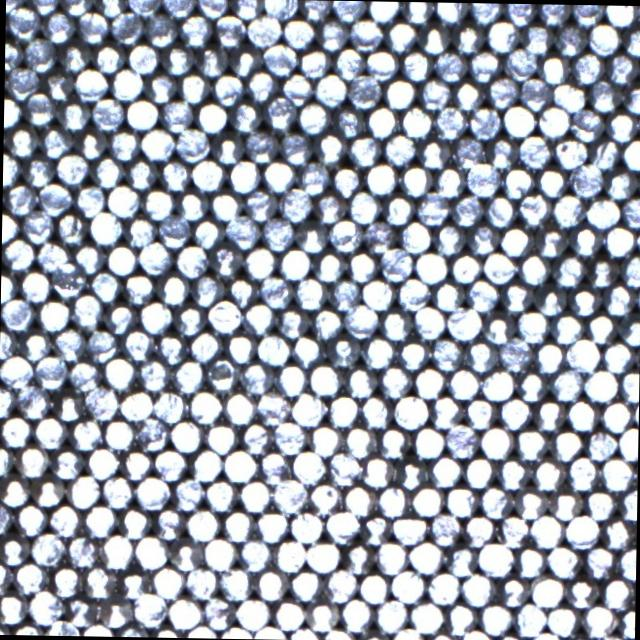tool: (528, 572, 564, 608), (326, 450, 361, 486), (200, 594, 235, 630), (15, 382, 50, 418), (342, 303, 377, 338), (175, 126, 210, 161), (379, 246, 414, 281), (99, 532, 133, 568), (202, 420, 238, 454), (290, 448, 324, 484), (500, 102, 536, 136), (288, 509, 324, 543), (220, 506, 254, 542), (534, 222, 568, 258), (446, 306, 482, 340), (272, 418, 306, 454), (517, 132, 551, 168), (464, 162, 500, 196), (204, 356, 238, 391), (382, 130, 417, 164), (66, 472, 100, 507), (101, 416, 135, 451), (382, 75, 417, 109), (108, 65, 142, 100), (100, 473, 134, 508), (235, 596, 270, 630), (261, 156, 295, 191), (478, 483, 512, 518), (479, 423, 513, 458), (14, 442, 48, 477), (383, 18, 418, 52), (428, 509, 462, 544), (582, 426, 616, 461), (531, 456, 565, 491), (443, 483, 478, 517), (272, 596, 306, 631), (378, 363, 412, 398), (342, 423, 377, 457), (376, 423, 410, 458), (428, 452, 462, 487), (395, 276, 430, 310), (22, 92, 56, 127), (378, 306, 412, 341), (290, 391, 324, 426), (326, 333, 360, 368), (296, 159, 331, 193), (244, 128, 278, 163), (363, 160, 398, 194), (564, 512, 599, 546), (190, 156, 224, 191), (373, 597, 408, 631), (426, 569, 460, 604), (185, 506, 219, 541), (443, 600, 478, 634), (498, 336, 532, 371), (390, 568, 425, 602), (546, 544, 581, 578), (358, 393, 392, 428), (133, 534, 168, 568), (443, 542, 478, 576), (136, 356, 170, 391), (66, 358, 101, 392), (33, 354, 67, 389), (450, 135, 485, 169), (308, 479, 342, 514), (568, 162, 602, 197), (308, 422, 342, 457), (48, 562, 83, 596), (408, 599, 443, 633), (410, 423, 444, 458), (84, 384, 118, 419), (416, 134, 451, 168), (84, 326, 118, 361), (207, 298, 240, 334), (478, 540, 512, 574), (374, 539, 408, 573), (102, 354, 136, 388), (18, 267, 52, 301), (152, 446, 186, 480), (48, 502, 82, 536), (272, 538, 306, 572), (238, 478, 272, 512), (482, 249, 516, 283), (242, 244, 276, 278), (496, 456, 530, 490), (552, 253, 586, 287), (325, 507, 359, 541), (347, 74, 381, 108), (305, 538, 339, 572), (188, 448, 222, 482), (332, 44, 366, 78), (171, 358, 205, 392), (345, 247, 379, 281), (293, 275, 327, 309), (339, 597, 373, 631), (348, 132, 382, 166), (74, 66, 108, 100), (13, 502, 47, 536), (478, 600, 512, 634), (134, 475, 168, 509), (156, 272, 190, 306), (586, 20, 620, 54), (430, 335, 464, 369), (138, 299, 172, 333), (429, 394, 463, 428), (565, 576, 599, 610), (6, 65, 40, 99), (222, 329, 256, 363), (600, 456, 634, 490), (170, 476, 204, 510), (227, 158, 261, 192), (398, 218, 432, 252), (274, 361, 308, 395), (70, 294, 104, 328), (50, 264, 84, 298), (278, 246, 312, 280), (584, 367, 618, 401), (254, 508, 288, 542), (532, 397, 566, 431), (307, 362, 341, 396), (554, 135, 588, 169), (602, 222, 636, 256), (604, 50, 638, 84), (68, 416, 102, 450), (120, 328, 154, 362), (348, 16, 382, 50), (600, 339, 634, 373), (280, 130, 314, 164), (498, 222, 532, 256), (398, 104, 432, 138), (272, 478, 306, 512), (117, 505, 151, 539), (208, 242, 242, 276), (57, 38, 91, 72), (548, 486, 582, 520), (532, 339, 566, 373), (601, 515, 635, 549), (342, 482, 376, 516), (486, 17, 520, 51), (238, 419, 272, 453), (552, 22, 586, 56), (502, 45, 536, 79), (16, 327, 50, 361), (262, 40, 296, 74), (222, 448, 256, 482), (360, 276, 394, 310), (536, 104, 570, 138), (12, 559, 46, 593), (36, 297, 70, 331), (56, 97, 90, 131), (393, 394, 427, 428), (168, 417, 202, 451), (143, 11, 177, 45), (244, 66, 278, 100), (587, 136, 621, 170), (50, 445, 84, 479), (512, 600, 546, 634), (462, 454, 496, 488), (496, 512, 530, 546), (238, 536, 272, 570), (445, 422, 479, 456), (30, 531, 64, 565), (66, 533, 100, 567), (5, 123, 39, 157), (23, 36, 57, 70), (152, 505, 186, 539), (126, 40, 160, 74), (396, 335, 430, 369), (408, 540, 442, 574), (550, 367, 584, 401), (2, 236, 36, 270), (124, 156, 158, 190), (585, 194, 619, 228), (109, 10, 143, 44), (99, 594, 133, 628), (104, 300, 138, 334), (178, 12, 212, 46), (188, 328, 222, 362), (260, 216, 294, 250), (466, 104, 500, 138), (498, 395, 532, 429), (380, 190, 414, 224), (360, 334, 394, 368), (568, 222, 602, 256), (5, 6, 39, 40), (460, 572, 494, 606), (256, 448, 290, 482), (582, 602, 616, 636), (82, 502, 116, 536), (462, 512, 496, 546), (305, 598, 339, 632), (278, 187, 312, 221), (244, 188, 278, 222), (566, 337, 600, 371), (288, 566, 322, 600), (255, 388, 289, 422), (149, 564, 183, 598), (582, 544, 616, 578), (600, 398, 634, 432), (140, 126, 174, 160), (514, 426, 548, 460), (346, 188, 380, 222), (82, 564, 116, 598), (138, 240, 172, 274), (224, 213, 258, 247), (238, 360, 272, 394), (184, 564, 218, 598), (289, 332, 323, 366), (262, 96, 296, 130), (51, 388, 85, 422), (254, 566, 288, 600), (132, 592, 166, 626), (516, 190, 550, 224), (569, 106, 603, 140), (496, 573, 530, 607), (222, 390, 256, 424), (218, 566, 252, 600), (414, 249, 448, 283), (28, 590, 62, 624), (551, 192, 585, 226), (513, 486, 547, 520), (512, 543, 546, 577), (20, 208, 54, 242), (464, 338, 498, 372), (363, 219, 397, 253), (518, 74, 552, 108), (134, 416, 168, 450), (204, 477, 237, 512), (296, 45, 331, 78), (326, 392, 359, 427), (499, 280, 534, 313), (391, 511, 426, 544), (500, 165, 535, 198), (365, 103, 398, 138), (360, 453, 393, 488), (31, 415, 66, 448), (194, 99, 227, 133), (0, 352, 33, 386), (530, 512, 563, 546), (584, 311, 618, 344), (202, 535, 235, 569), (104, 240, 137, 274), (296, 100, 329, 134), (280, 70, 313, 104), (376, 483, 409, 517), (1, 296, 34, 330), (256, 331, 289, 365), (242, 300, 275, 334), (602, 282, 635, 316), (432, 220, 465, 254), (160, 42, 194, 75), (550, 311, 584, 344), (125, 96, 158, 130), (167, 594, 200, 628), (328, 277, 361, 311), (190, 272, 223, 306), (294, 220, 328, 253), (175, 242, 208, 276), (107, 126, 140, 160), (157, 213, 190, 247), (160, 98, 193, 132), (172, 302, 205, 336), (328, 217, 362, 250), (228, 100, 261, 134), (600, 575, 633, 609), (450, 78, 484, 111), (72, 240, 105, 274), (604, 108, 637, 142), (177, 70, 210, 104), (365, 46, 398, 80), (585, 255, 619, 288), (546, 602, 579, 636), (398, 162, 432, 195), (480, 367, 514, 400), (154, 330, 188, 363), (604, 166, 638, 199), (153, 388, 186, 422), (72, 182, 106, 215), (394, 456, 428, 489), (517, 250, 550, 284), (344, 364, 378, 397), (187, 389, 220, 423), (485, 134, 518, 168), (570, 50, 604, 83), (412, 365, 446, 398), (75, 8, 108, 42), (330, 105, 364, 138), (54, 210, 88, 243), (323, 568, 356, 602), (340, 540, 374, 573), (37, 240, 71, 273), (312, 190, 346, 223), (463, 395, 496, 429), (91, 38, 124, 72), (516, 368, 549, 402), (37, 181, 70, 215), (413, 304, 446, 338), (119, 388, 152, 422), (356, 570, 390, 603), (359, 510, 392, 544), (85, 445, 118, 478), (55, 150, 88, 183), (537, 50, 570, 83), (210, 72, 243, 105), (194, 43, 227, 76), (535, 164, 568, 197), (106, 182, 139, 215), (158, 157, 191, 190), (276, 305, 309, 338), (41, 68, 74, 101), (282, 14, 315, 47), (120, 447, 153, 480), (482, 311, 515, 344), (451, 21, 484, 54), (330, 163, 363, 196), (467, 48, 500, 81), (447, 366, 480, 399), (90, 154, 123, 187), (190, 215, 223, 248), (74, 126, 107, 159), (312, 249, 345, 282), (209, 187, 242, 220), (88, 210, 121, 243), (418, 21, 451, 54), (520, 21, 553, 54), (434, 104, 466, 138), (52, 326, 84, 360), (566, 456, 598, 490), (432, 278, 464, 312), (588, 78, 620, 112), (486, 74, 518, 108), (550, 426, 582, 460), (122, 270, 154, 304), (4, 182, 38, 214), (552, 80, 586, 112), (21, 154, 55, 186), (584, 486, 616, 520), (260, 273, 292, 307), (410, 483, 442, 517), (466, 278, 498, 312), (310, 305, 342, 339), (450, 192, 482, 226), (245, 12, 279, 44), (90, 96, 122, 130), (169, 538, 203, 570), (212, 130, 244, 164), (314, 129, 346, 163), (175, 188, 209, 220), (40, 124, 72, 158), (61, 596, 95, 628), (400, 47, 432, 80), (434, 48, 466, 81), (225, 274, 258, 306), (314, 72, 346, 105), (432, 165, 465, 197), (144, 70, 177, 102), (566, 397, 598, 430), (124, 213, 156, 246), (212, 14, 245, 46), (228, 44, 261, 76), (536, 284, 569, 316), (484, 192, 516, 225), (41, 10, 74, 42), (87, 268, 120, 300), (568, 284, 600, 317), (516, 309, 548, 342), (316, 16, 348, 49), (415, 192, 448, 224), (33, 476, 66, 508), (418, 77, 450, 110), (117, 568, 150, 600), (466, 222, 499, 254), (0, 473, 31, 507), (0, 412, 31, 446), (450, 250, 482, 282), (142, 186, 174, 218), (0, 533, 28, 566), (0, 590, 27, 624), (617, 313, 640, 346), (618, 368, 640, 402), (616, 426, 638, 460), (604, 4, 638, 26), (570, 4, 604, 26), (402, 1, 434, 24), (616, 487, 638, 520), (468, 2, 501, 24), (503, 3, 535, 25), (619, 252, 640, 285), (619, 194, 640, 227), (366, 1, 399, 22), (332, 0, 365, 21), (616, 545, 636, 579), (538, 3, 570, 24), (434, 1, 466, 22), (620, 136, 640, 169), (299, 0, 331, 20), (616, 606, 636, 638), (4, 37, 23, 70), (93, 0, 126, 19), (45, 618, 79, 636), (621, 83, 640, 115), (229, 0, 261, 19), (263, 0, 296, 18), (622, 23, 640, 56), (2, 151, 20, 184), (0, 325, 17, 359), (195, 0, 227, 18), (1, 210, 19, 242), (3, 94, 21, 126), (0, 270, 18, 302), (162, 0, 195, 17), (252, 624, 286, 640), (10, 620, 44, 636), (219, 623, 252, 639), (81, 620, 114, 636), (59, 0, 92, 16), (184, 622, 216, 638), (390, 626, 424, 640), (127, 0, 160, 14), (0, 384, 14, 417), (0, 443, 13, 476), (26, 0, 59, 13), (0, 499, 12, 533), (0, 560, 11, 593)
